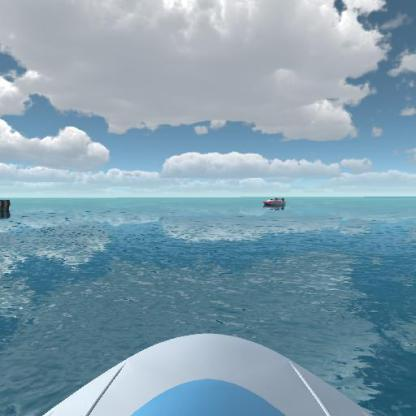usv3: (261, 192, 289, 212)
